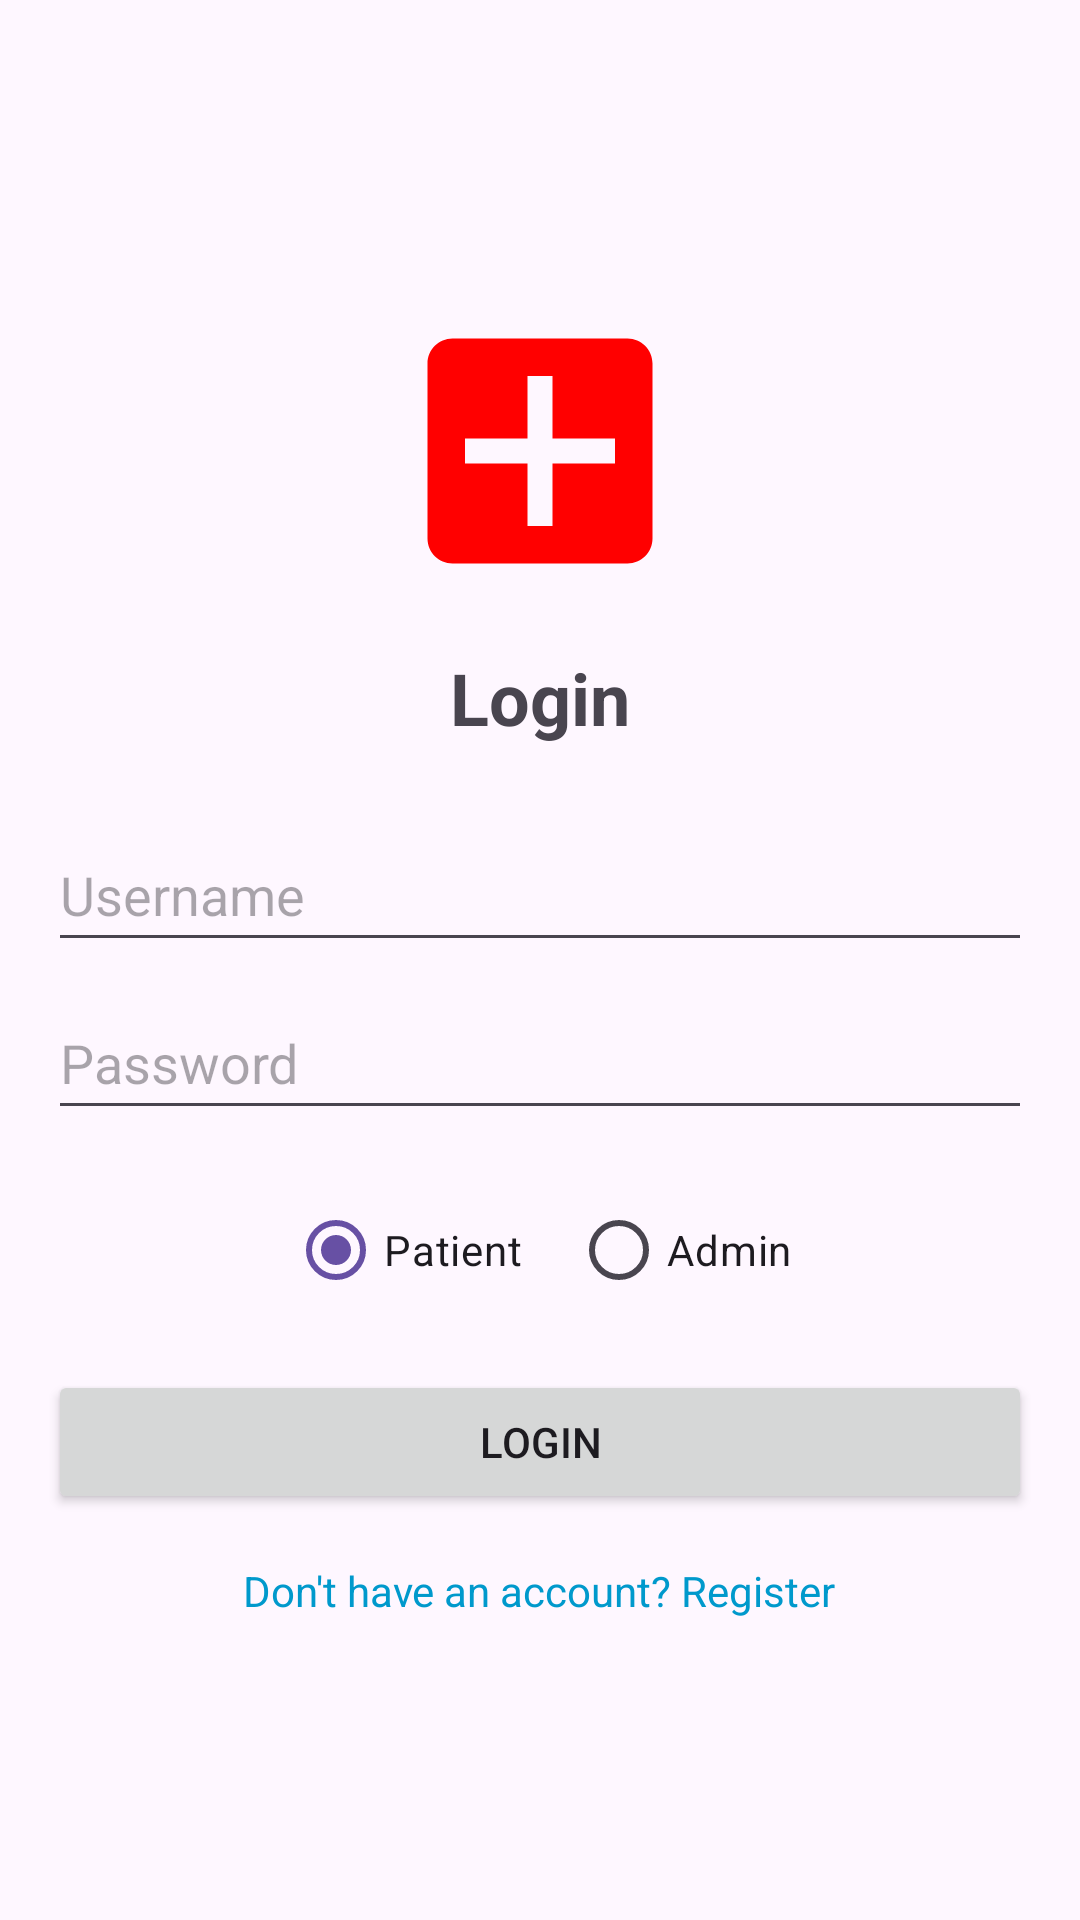

Icon click points for this 1080px×1920px phone screenshot, format [x,y]:
hospital: [540,451]
